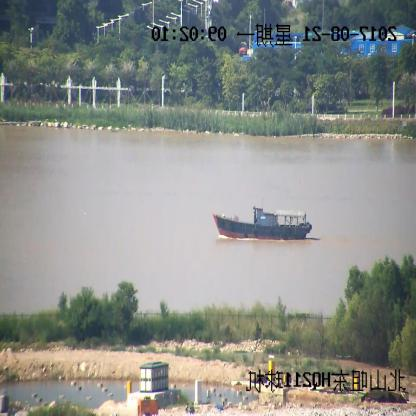Fishing Boat: (213, 207, 313, 240)
